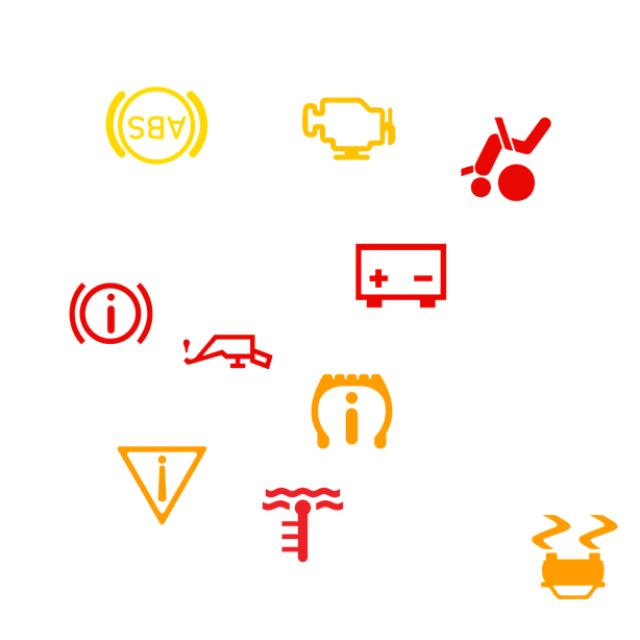Anti Lock Braking System: (101, 70, 213, 181)
Braking System Issue: (55, 257, 167, 369)
Charging System Issue: (345, 220, 457, 331)
Check Engine: (293, 73, 404, 184)
Electronic Stability Problem -ESP-: (519, 501, 631, 613)
Engine Overheating Warning Light: (247, 469, 359, 581)
Low Engine Oil Warning Light: (172, 296, 284, 408)
Low Tire Pressure Warning Light: (296, 355, 408, 467)
Master warning light: (106, 429, 218, 541)
SRS-Airbag: (450, 103, 562, 215)
